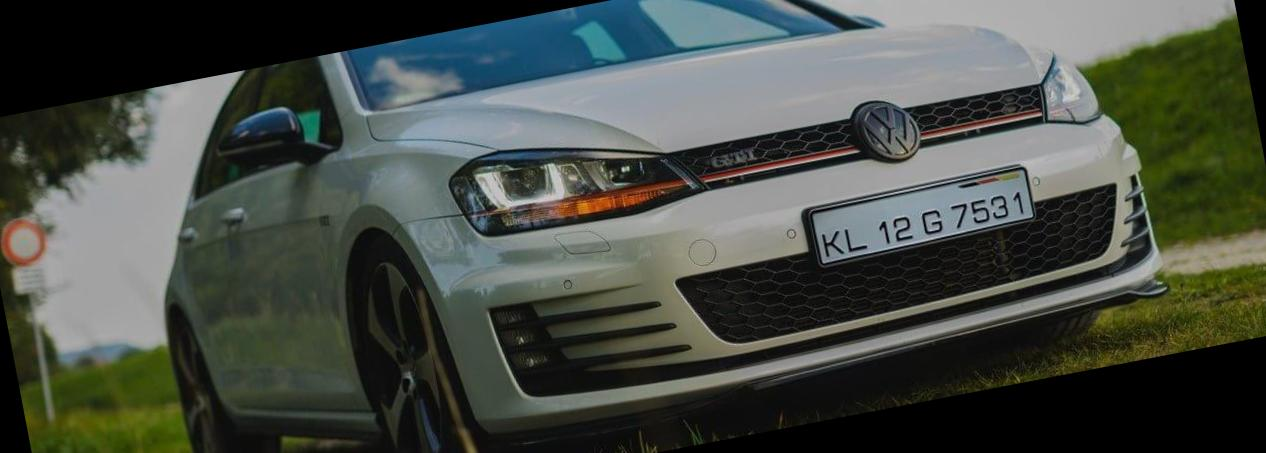plate: (787, 162, 1053, 271)
